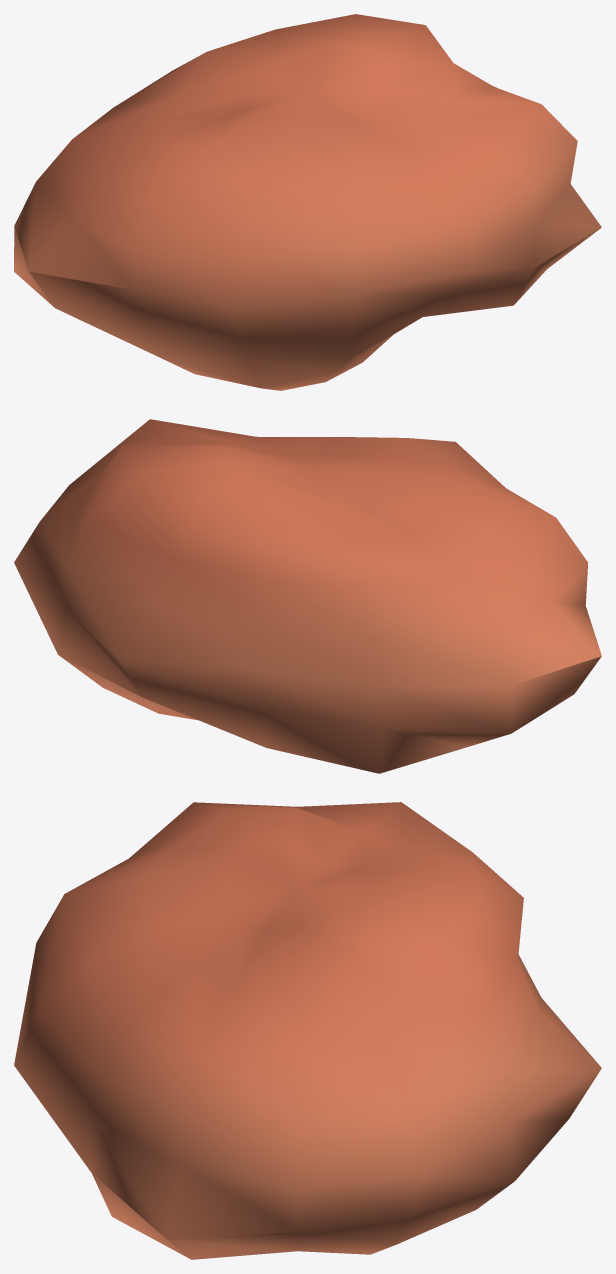
The model's file is rock_1.glb.
The picture shows the model from 3 angles, top to bottom: view 1: azimuth 30°, elevation 25°; view 2: azimuth 150°, elevation 25°; view 3: azimuth 270°, elevation 25°; orthographic projection. The views are drawn at different scales.
Parts seen in each view (by area): view 1: PedraMalha1; view 2: PedraMalha1; view 3: PedraMalha1.
Boxes of the visible parts, box(x1,y1,x2,y2) form: PedraMalha1: box(14, 14, 601, 390); PedraMalha1: box(14, 419, 601, 773); PedraMalha1: box(14, 802, 601, 1259).
Bounding box in the file's own units: 3.39 × 1.69 × 2.54.
